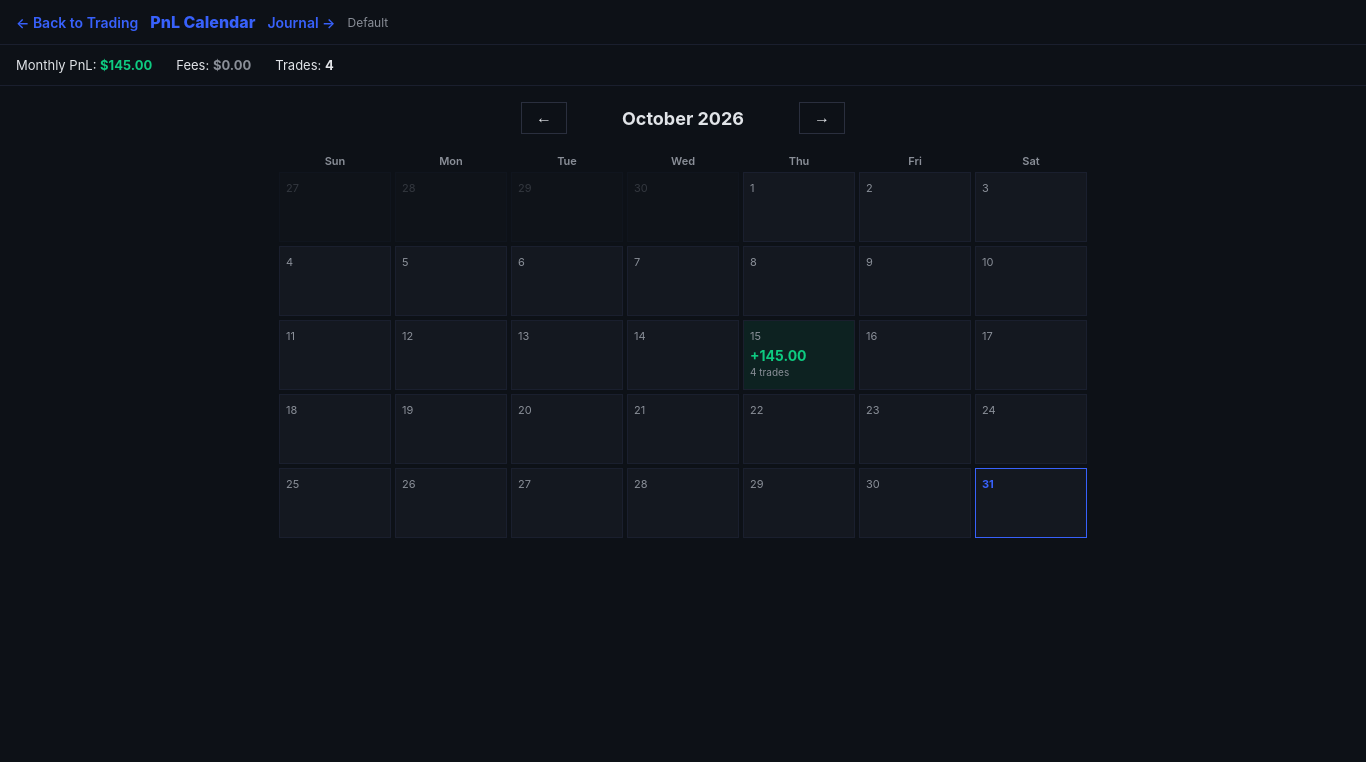
Test: PnlCalendar — spread group rendering › groups a 4-leg iron-condor close into one header with net PnL; expands to 4 leg rows
What coordinates should you click on to do the following:
click the element showing "15 +145.00 4 trades"
I would click on:
 (799, 355)
Its box is [743, 320, 855, 390].
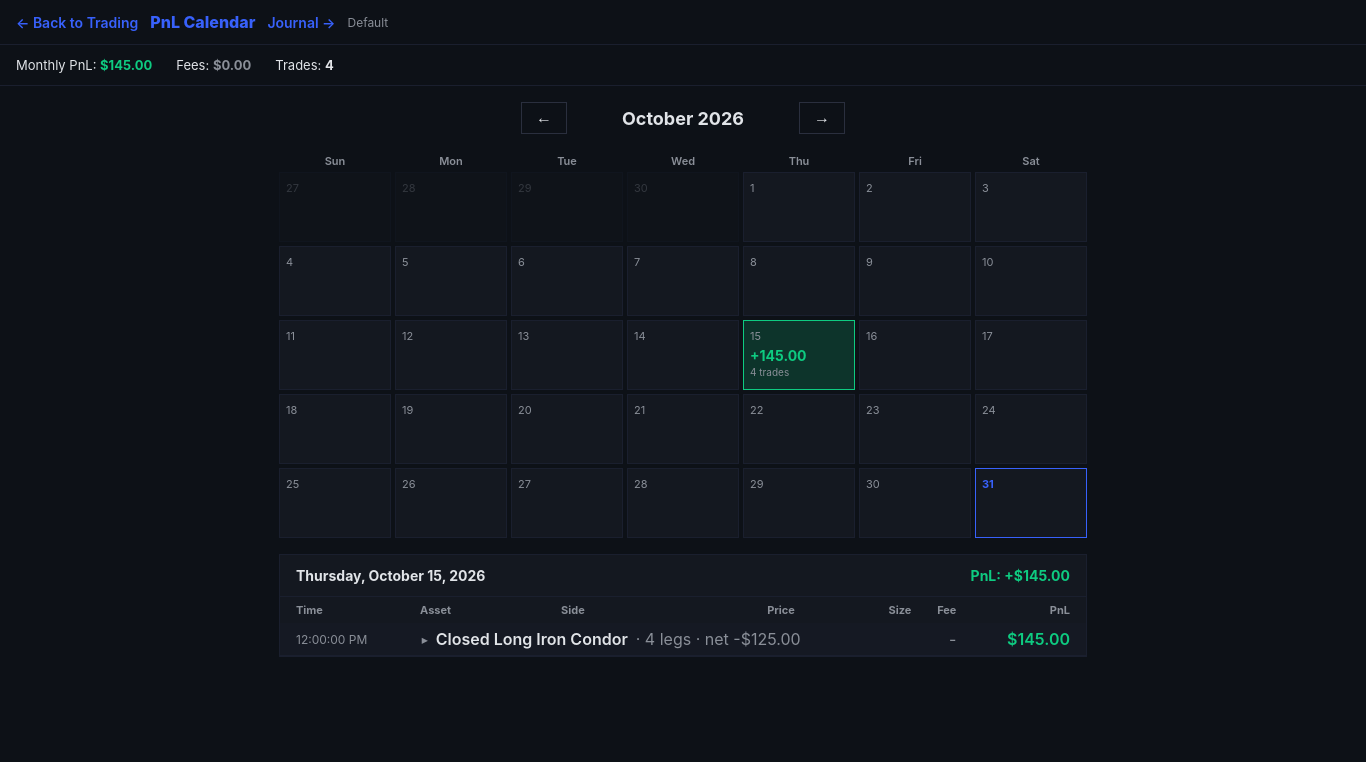
Now the row titled "expand legs" shows "Closed", box [436, 629, 490, 649]
Now the row titled "expand legs" shows "4 legs"
Now the row titled "expand legs" shows "$145.00", box [1007, 629, 1070, 649]
What coordinates should you click on to do the following:
click the row titled "expand legs"
I would click on:
 (683, 639)
Its box is [280, 623, 1086, 656].
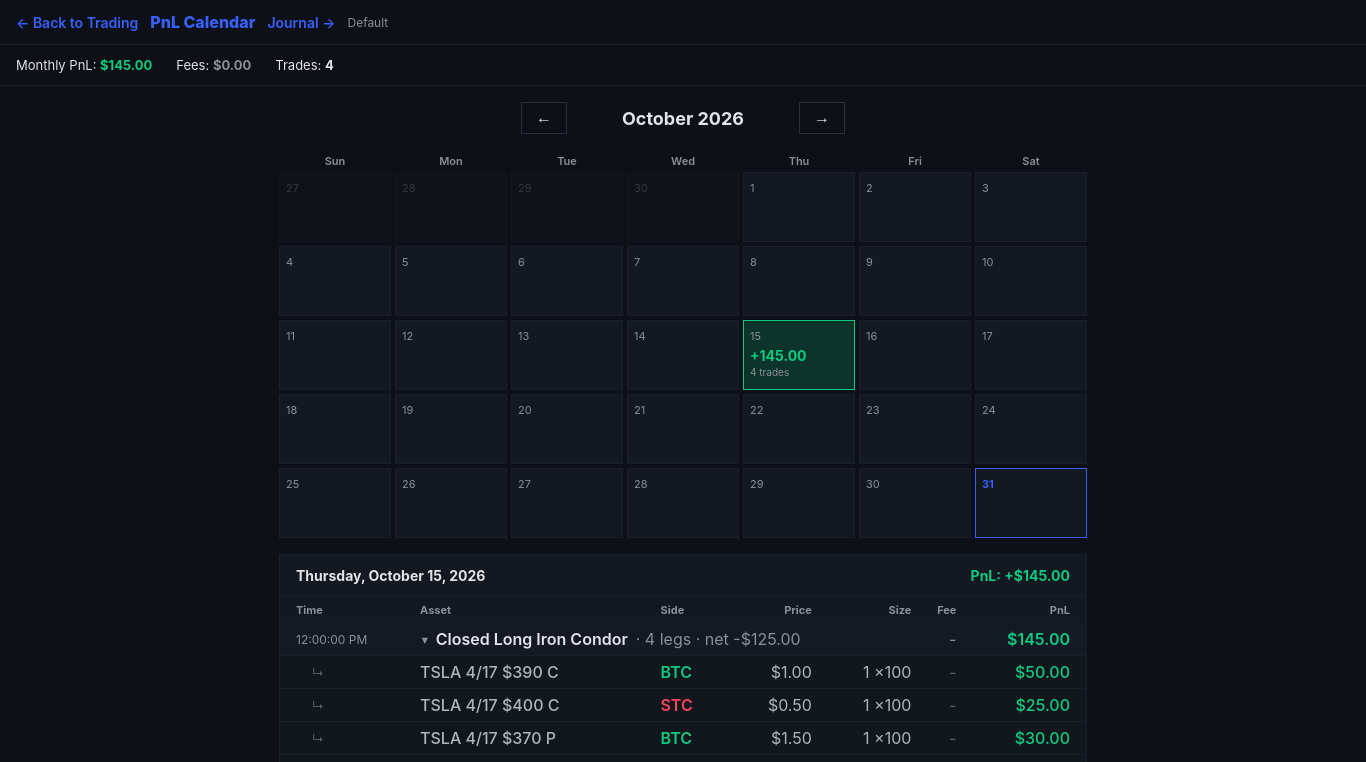
Now the text "BTC" is shown 2 times, box [653, 656, 727, 688]; [653, 722, 727, 754]
